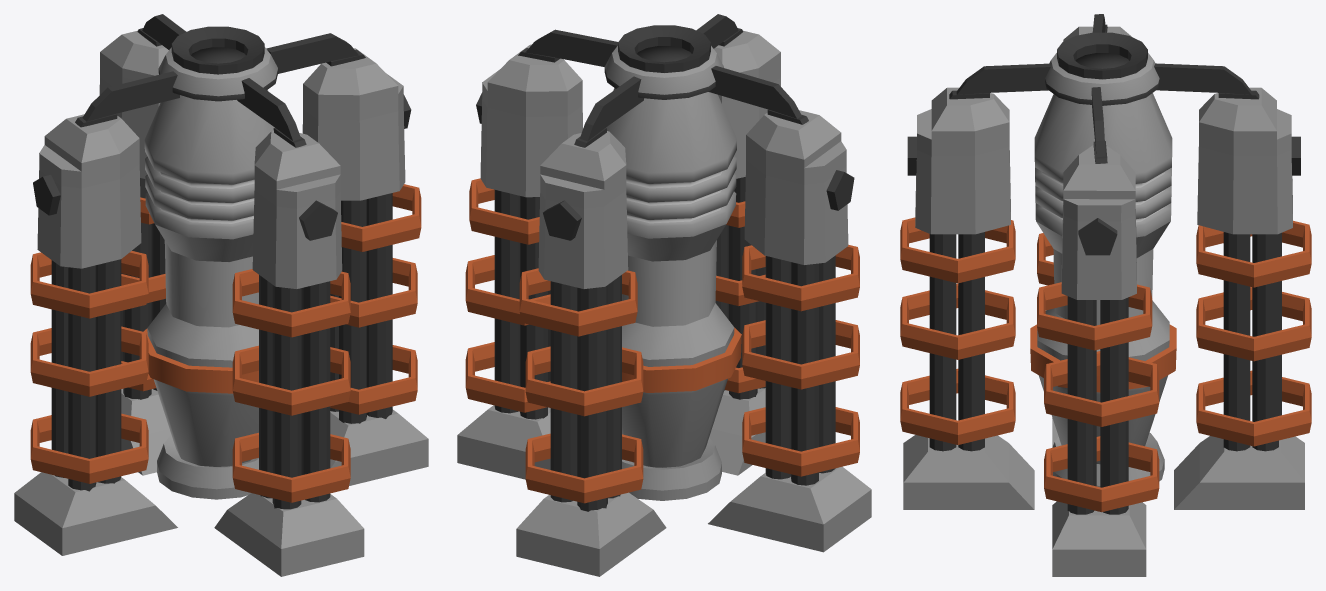
File: Power_Core_Asset.fbx
3 renders of one model, left to right at view 1: azimuth 30°, elevation 25°; view 2: azimuth 150°, elevation 25°; view 3: azimuth 270°, elevation 25°, orthographic. The views are drawn at different scales.
Parts seen in each view (by area): view 1: Power_Core_Asset; view 2: Power_Core_Asset; view 3: Power_Core_Asset.
Part boxes in pixels (x1,y1,x2,y2): Power_Core_Asset: [14, 14, 428, 576]; Power_Core_Asset: [457, 14, 871, 576]; Power_Core_Asset: [900, 14, 1311, 576].
Size of the model in its own units: 314 by 344 by 293.
